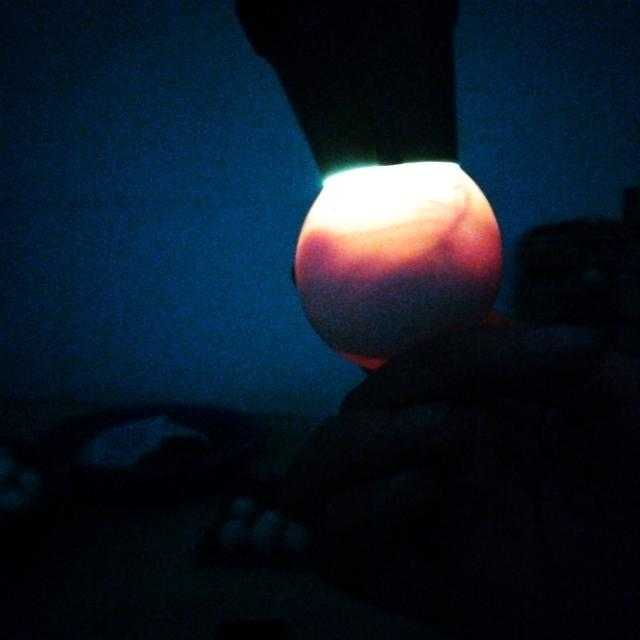Embriao: (296, 263, 496, 357)
